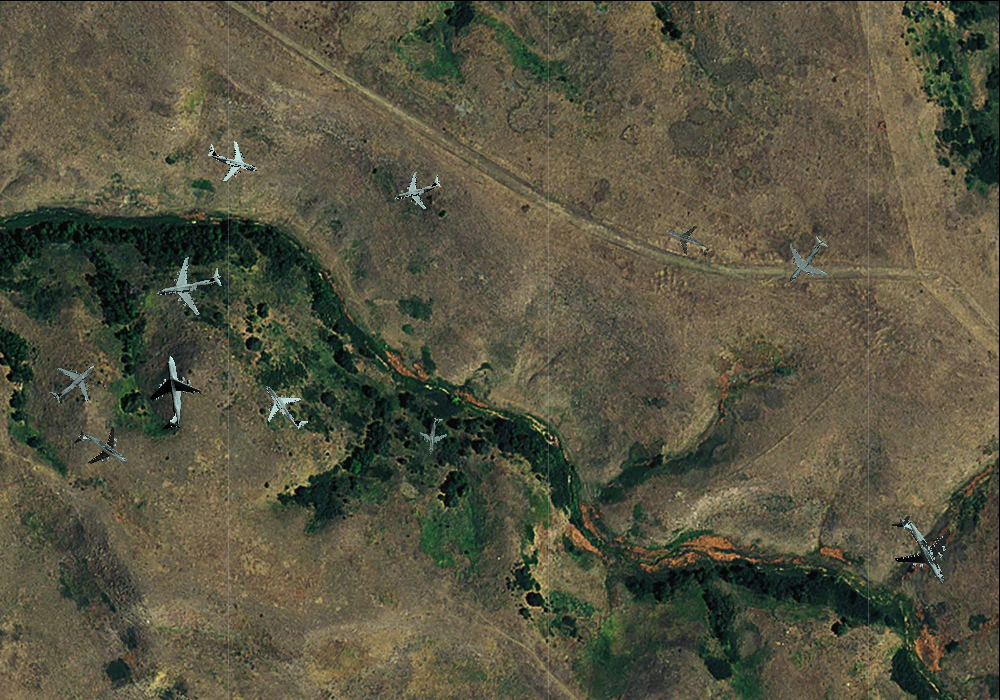plane: (872, 499, 972, 601), (134, 352, 208, 434), (149, 247, 227, 323), (64, 411, 139, 485), (248, 369, 320, 443), (770, 224, 842, 297), (37, 346, 109, 418), (199, 128, 265, 190), (388, 161, 446, 217), (660, 215, 716, 267), (416, 415, 452, 455)
